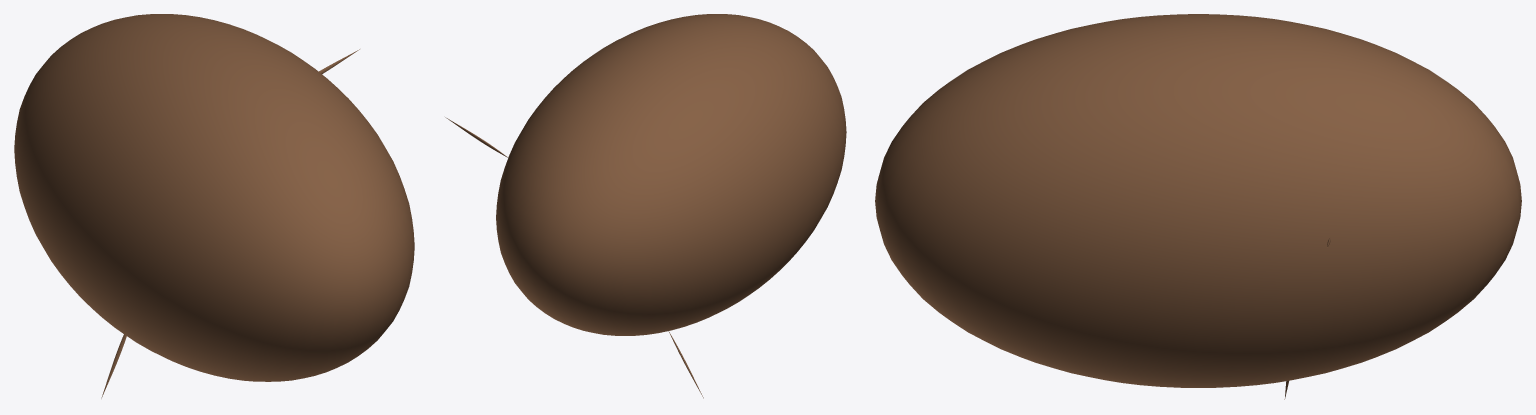
Rendered from morphloom-project.glb.
3 renders of one model, left to right at view 1: azimuth 30°, elevation 25°; view 2: azimuth 150°, elevation 25°; view 3: azimuth 270°, elevation 25°, orthographic. The views are drawn at different scales.
Visible parts, largest first — view 1: animal_body; view 2: animal_body; view 3: animal_body.
Part boxes in pixels (x1,y1,x2,y2): animal_body: [14, 14, 414, 381]; animal_body: [496, 14, 846, 335]; animal_body: [875, 14, 1521, 387].
Bounding box in the file's own units: 0.0671 × 0.0668 × 0.095.
